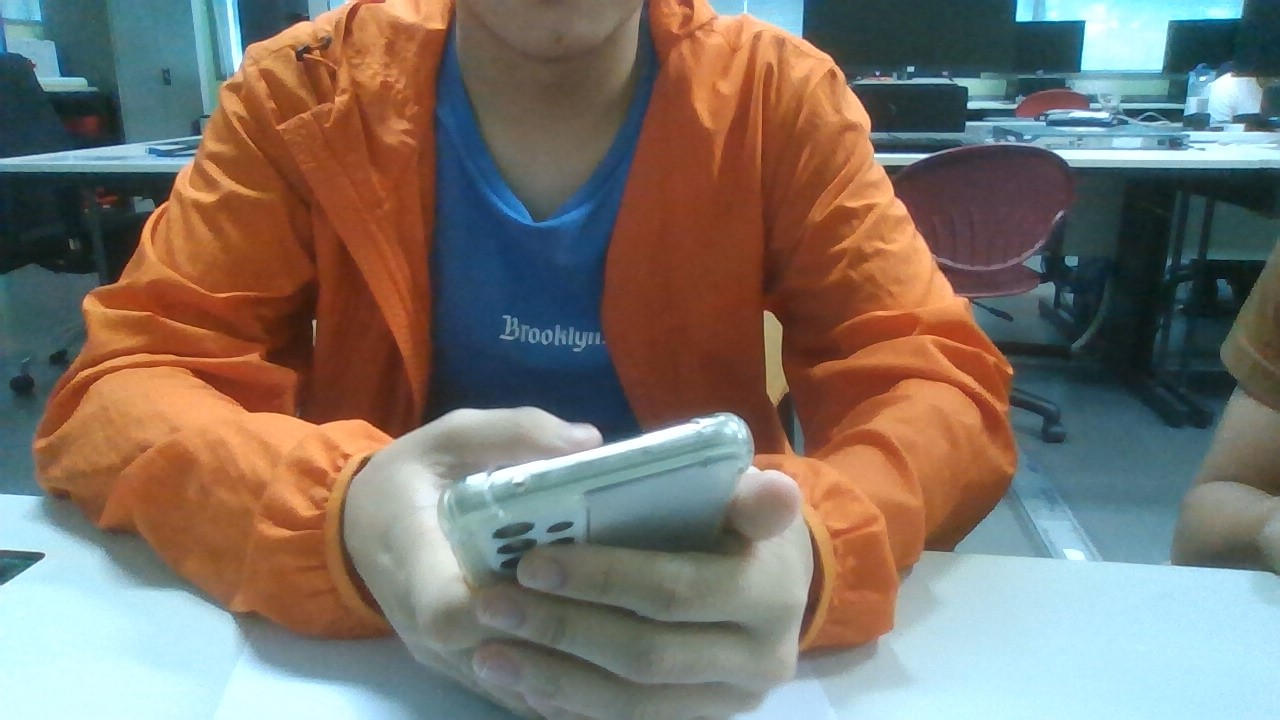phone: (439, 411, 755, 601)
